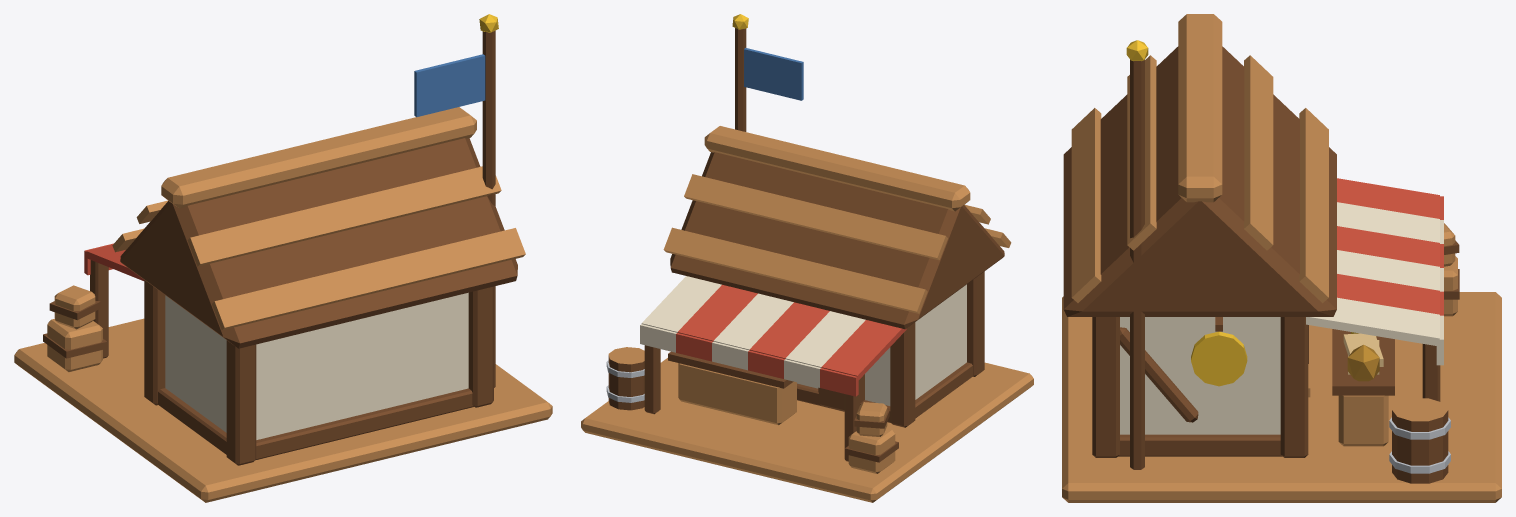
Rendered from trading_post_l1.fbx.
3 views of the same model, side by side, from view 1: azimuth 30°, elevation 25°; view 2: azimuth 150°, elevation 25°; view 3: azimuth 270°, elevation 25° (orthographic). The views are drawn at different scales.
Parts seen in each view (by area): view 1: trading_post_l1; view 2: trading_post_l1; view 3: trading_post_l1.
Boxes of the visible parts, x1,y1,x2,y2 form: trading_post_l1: (14,14,552,502); trading_post_l1: (581,14,1033,502); trading_post_l1: (1062,14,1501,502).
Bounding box in the file's own units: 0.888 × 0.942 × 0.84.
